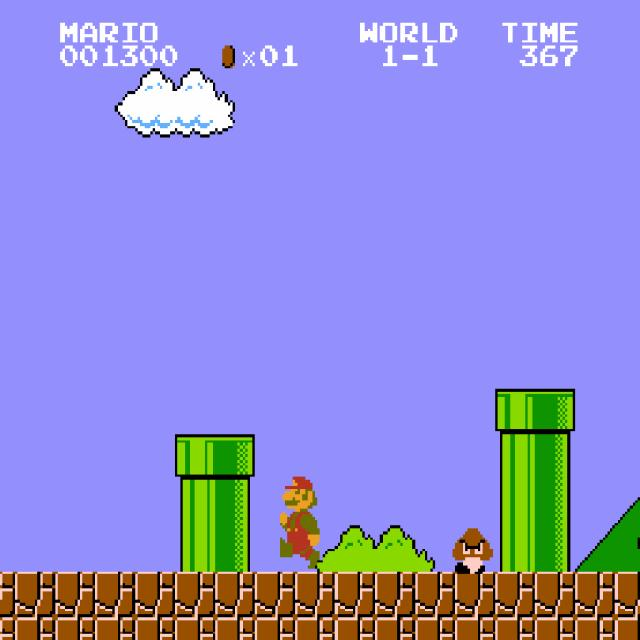big_mario: (277, 474, 320, 568)
goomba: (450, 526, 492, 574)
pipe: (175, 480, 215, 526), (215, 480, 255, 526), (495, 434, 535, 480), (495, 480, 535, 526), (535, 434, 575, 480), (535, 480, 575, 526), (175, 526, 215, 571), (215, 526, 255, 571), (495, 526, 535, 571), (535, 526, 575, 571)
pipe_head: (175, 434, 215, 480), (215, 434, 255, 480), (495, 389, 535, 434), (535, 389, 575, 434)
undestructible_block: (15, 572, 55, 617), (55, 572, 95, 617), (95, 572, 135, 617), (135, 572, 175, 617), (175, 572, 215, 617), (215, 572, 255, 617), (255, 572, 295, 617), (295, 572, 335, 617), (335, 572, 375, 617), (375, 572, 415, 617), (415, 572, 455, 617), (455, 572, 495, 617), (495, 572, 535, 617), (535, 572, 575, 617), (575, 572, 615, 617), (614, 571, 640, 617), (15, 617, 55, 640), (55, 617, 95, 640), (95, 617, 135, 640), (135, 617, 175, 640), (175, 617, 215, 640), (215, 617, 255, 640), (255, 617, 295, 640), (295, 617, 335, 640), (335, 617, 375, 640), (375, 617, 415, 640), (415, 617, 455, 640), (455, 617, 495, 640), (495, 617, 535, 640), (535, 617, 575, 640), (575, 617, 615, 640), (0, 572, 15, 617), (614, 617, 640, 639), (0, 617, 15, 640)
